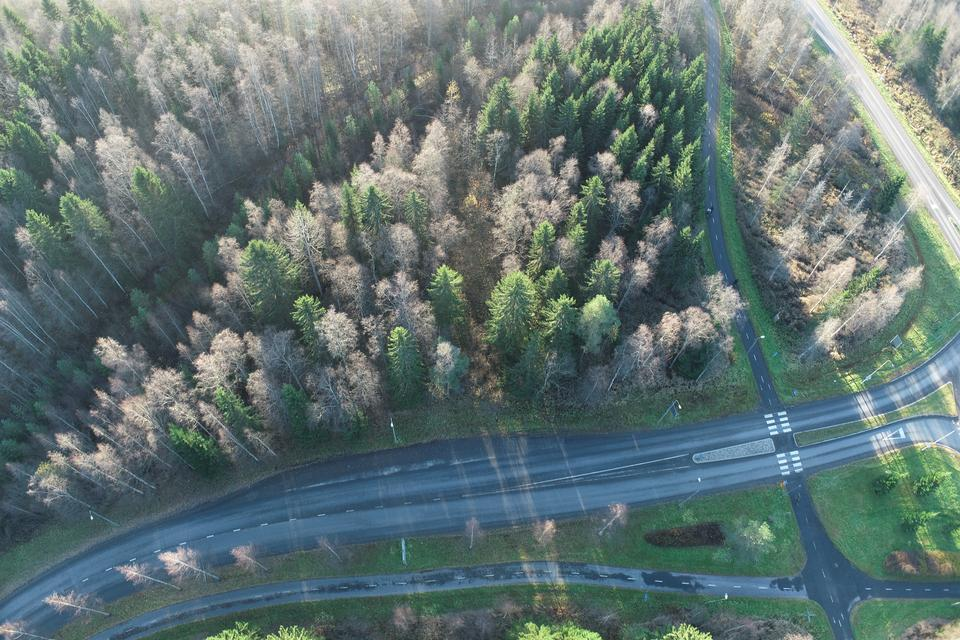intersection: (738, 380, 828, 507)
roundabout: (934, 312, 960, 494)
